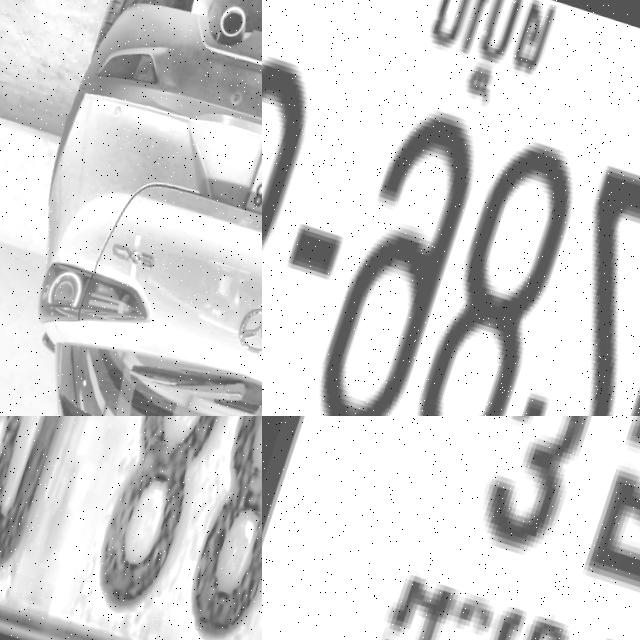license-plate: (262, 0, 640, 416), (262, 416, 640, 640), (0, 416, 262, 640)
